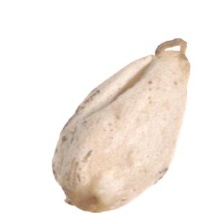L1: (58, 180, 107, 214), (146, 37, 190, 71)
L2: (51, 38, 191, 213)
